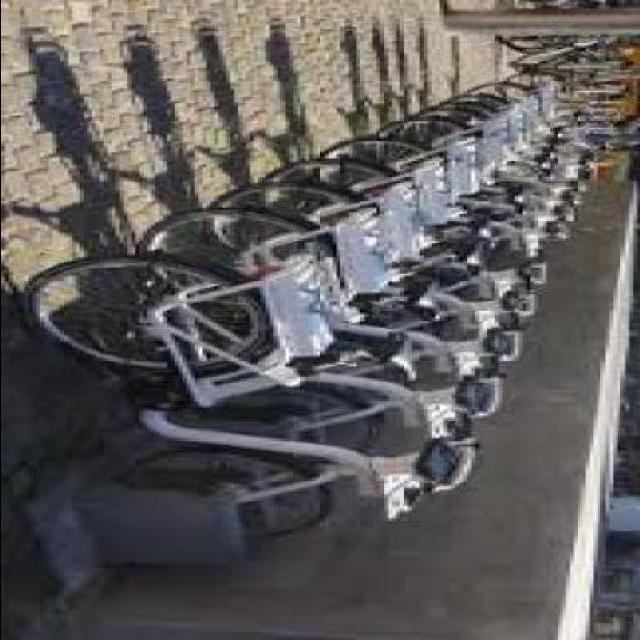bicycle: (23, 244, 466, 530)
